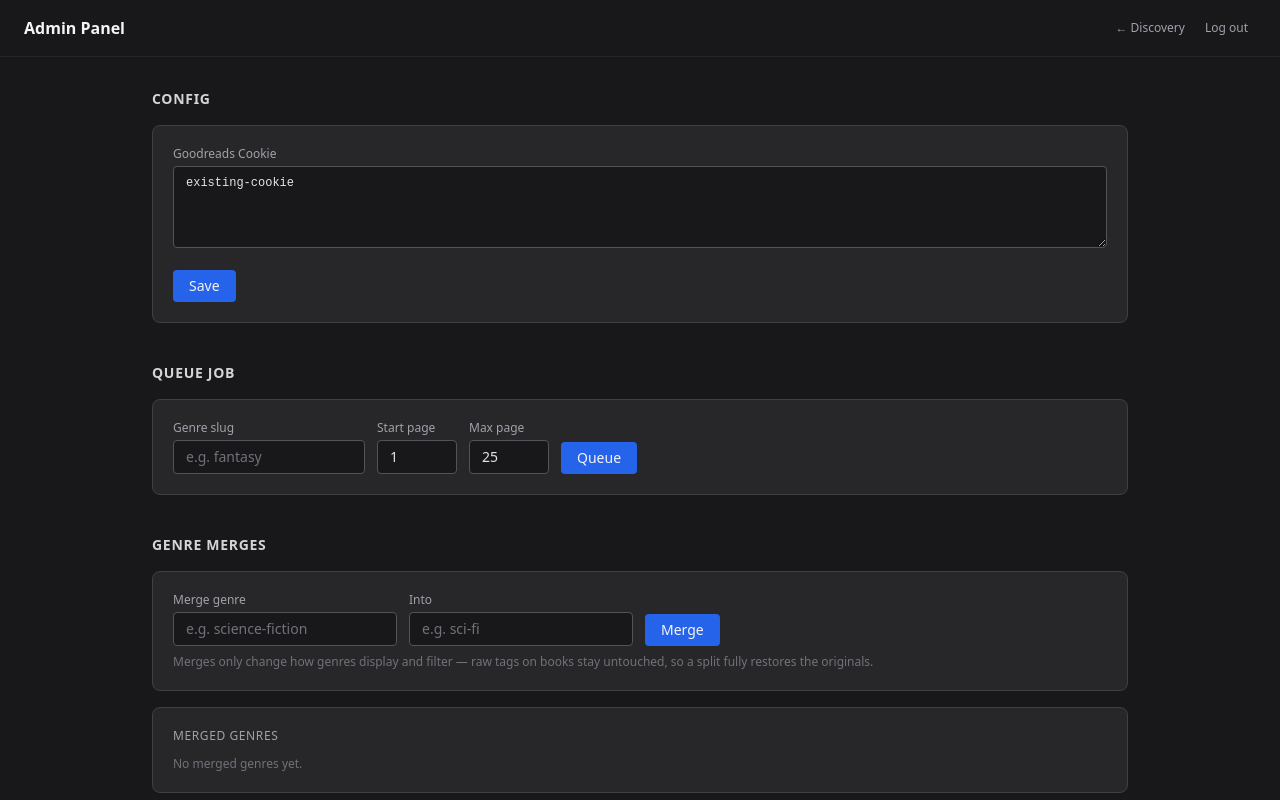
Scenario: AdminPage — content and forms › saves the Goodreads cookie with the existing rate limit
Replace the text in the text box with placeholder "Paste your Goodreads session cookie here…" with "fresh-cookie" at x=640, y=207, box [173,166,1107,248]
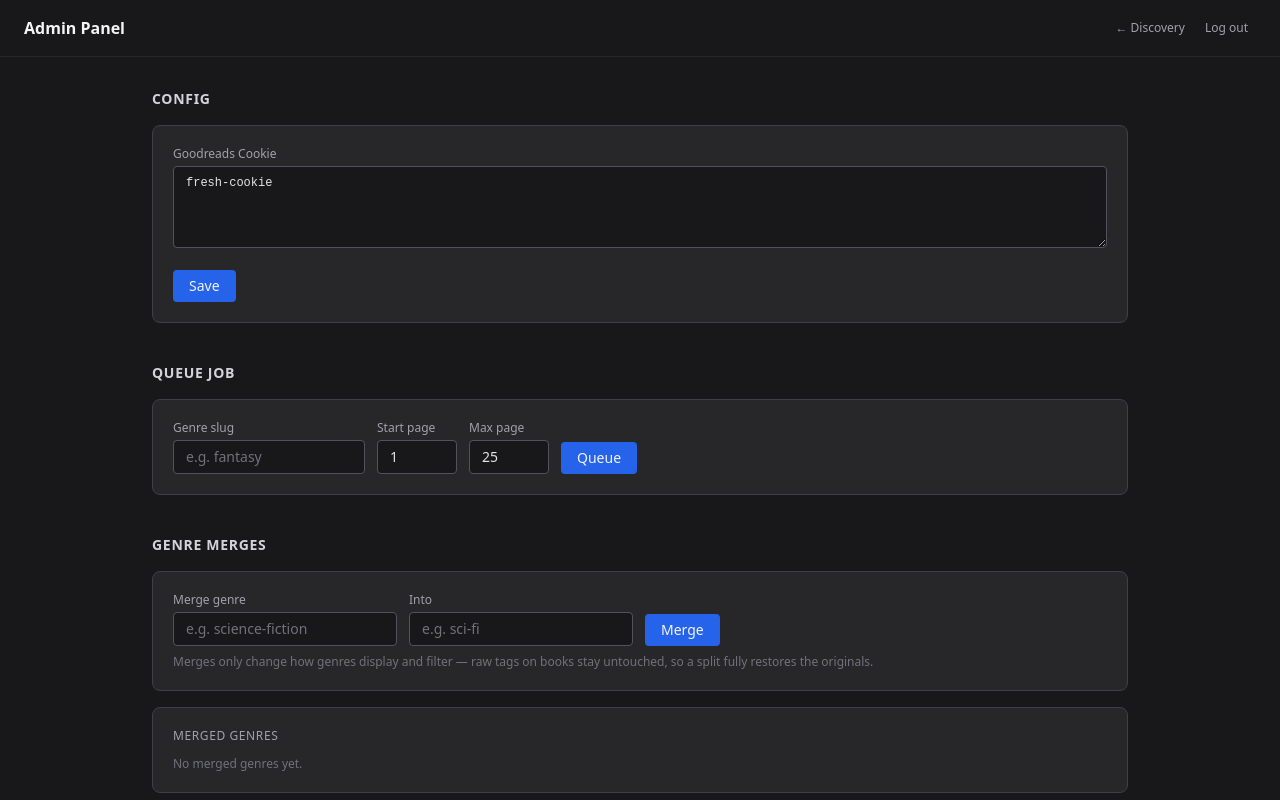
Click the button "Save".
click(204, 286)  # box [173,270,236,302]
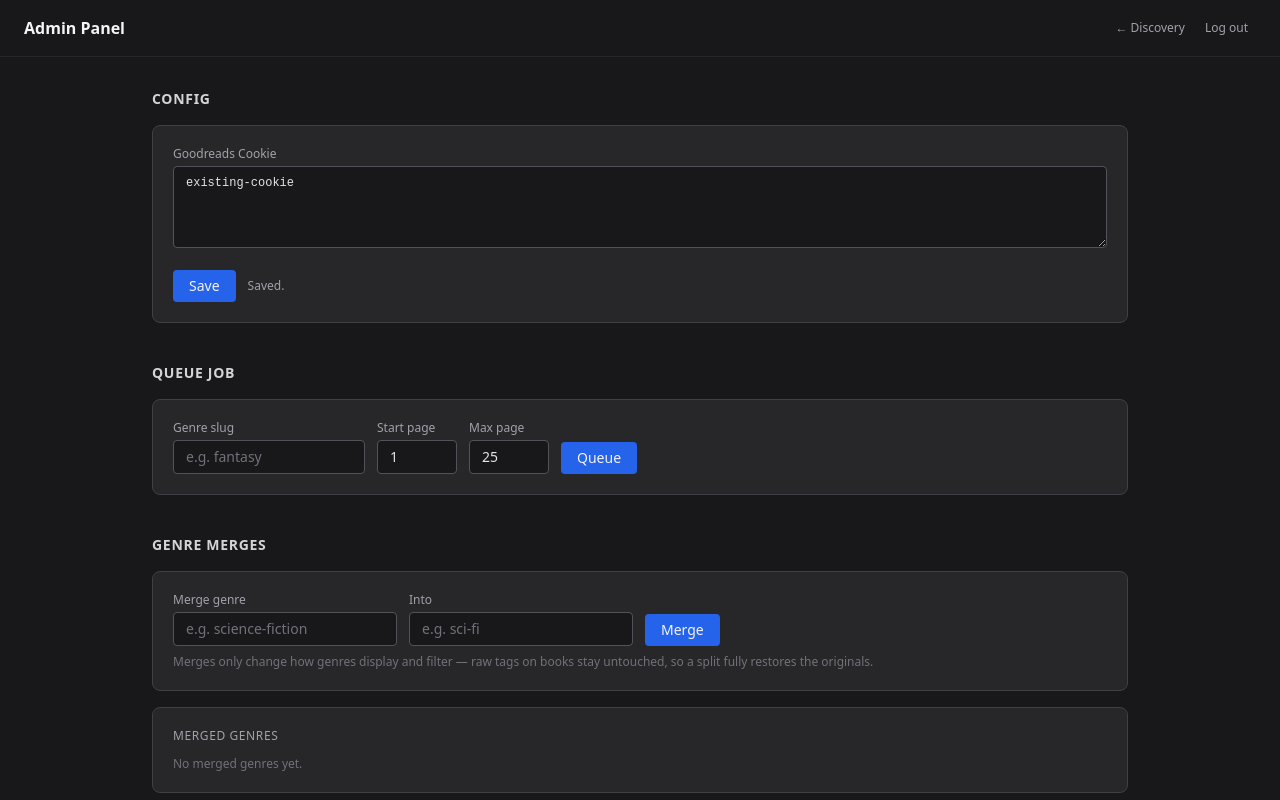
Now the text "Saved." is shown, box [248,278,284,294]
